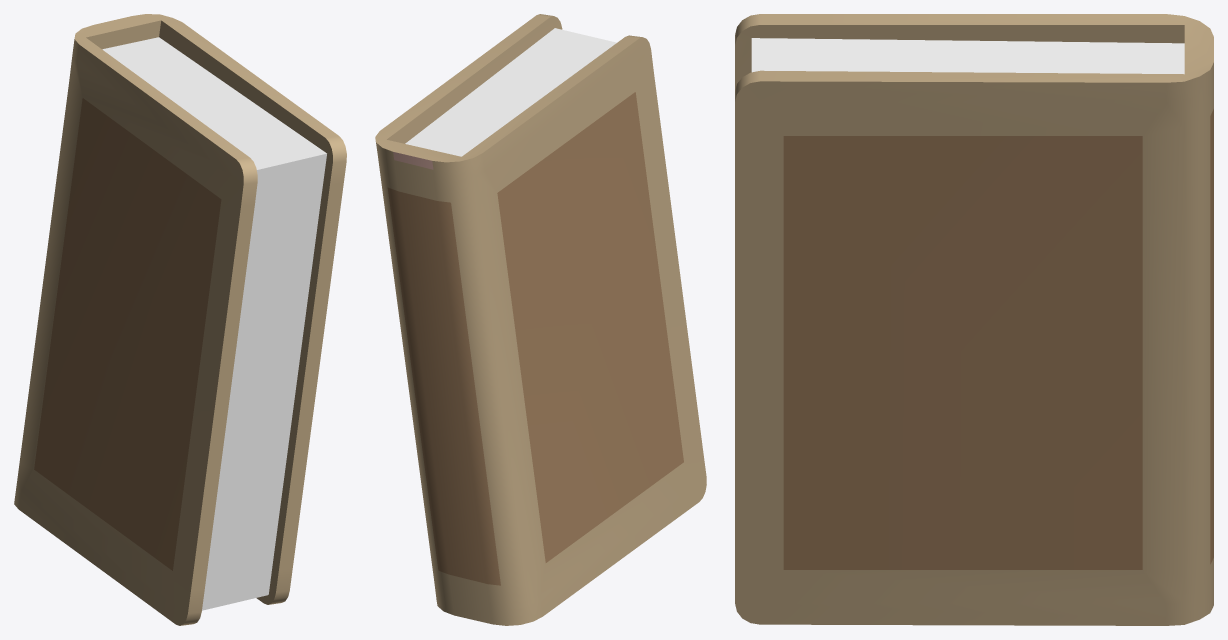
The model's file is book_7.fbx.
The picture shows the model from 3 angles, left to right: view 1: azimuth 30°, elevation 25°; view 2: azimuth 150°, elevation 25°; view 3: azimuth 270°, elevation 25°; orthographic projection. The views are drawn at different scales.
Visible parts, largest first — view 1: book_7; view 2: book_7; view 3: book_7.
Part boxes in pixels (bbox=[...]): book_7: bbox=[14, 14, 346, 625]; book_7: bbox=[375, 14, 706, 625]; book_7: bbox=[735, 14, 1213, 625].
Bounding box in the file's own units: 0.1303 × 0.3454 × 0.2557.
